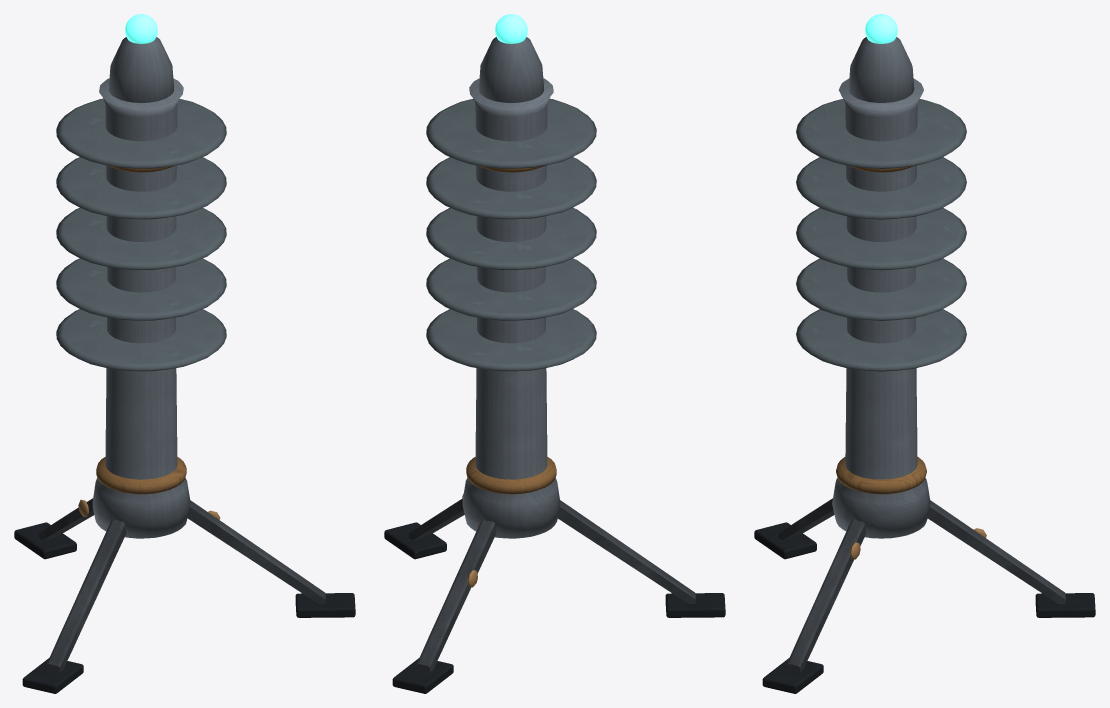
File: pulse-pylon.lod1.glb
3 views of the same model, side by side, from view 1: azimuth 30°, elevation 25°; view 2: azimuth 150°, elevation 25°; view 3: azimuth 270°, elevation 25° (orthographic).
Parts seen in each view (by area): view 1: ceramic / ceramic composite panel, alloy / machined anodized alloy, darksteel / oil-blackened fittings, polymer / stippled polymer, bronze / cast bronze with patina, energy / emissive field channel; view 2: ceramic / ceramic composite panel, alloy / machined anodized alloy, darksteel / oil-blackened fittings, polymer / stippled polymer, bronze / cast bronze with patina, energy / emissive field channel; view 3: ceramic / ceramic composite panel, alloy / machined anodized alloy, darksteel / oil-blackened fittings, polymer / stippled polymer, bronze / cast bronze with patina, energy / emissive field channel.
Boxes of the visible parts, x1,y1,x2,y2 form: ceramic / ceramic composite panel: (56,98,226,371); alloy / machined anodized alloy: (92,37,190,538); darksteel / oil-blackened fittings: (39,498,325,672); polymer / stippled polymer: (14,522,355,693); bronze / cast bronze with patina: (96,165,186,494); energy / emissive field channel: (125,14,157,43); ceramic / ceramic composite panel: (426,98,596,371); alloy / machined anodized alloy: (462,37,560,538); darksteel / oil-blackened fittings: (409,499,695,672); polymer / stippled polymer: (384,522,725,693); bronze / cast bronze with patina: (466,165,556,494); energy / emissive field channel: (495,14,527,43); ceramic / ceramic composite panel: (796,98,966,371); alloy / machined anodized alloy: (832,37,930,538); darksteel / oil-blackened fittings: (779,498,1065,672); polymer / stippled polymer: (754,522,1095,693); bronze / cast bronze with patina: (836,166,926,494); energy / emissive field channel: (865,14,897,43).
Size of the model in its own units: 0.5897 by 1 by 0.5187.
7 materials, 5 textured.
